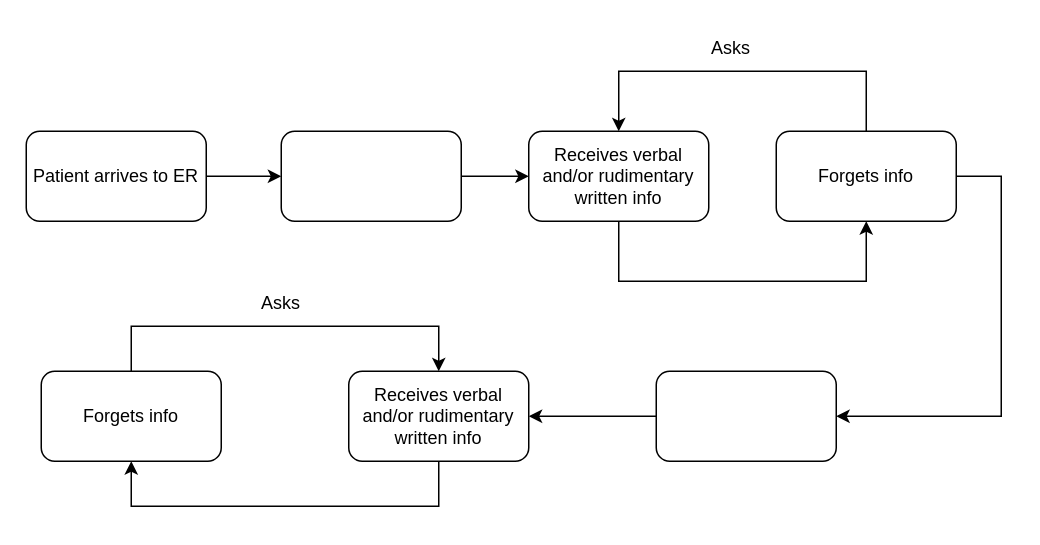
Image size: 1040x545. Some labels were removed from this diagram. The box of each missing label's shape, as (x1, y1, x2, y2) in pixels:
Diagnosis: (280, 130, 461, 221)
Surgery: (655, 370, 836, 461)
